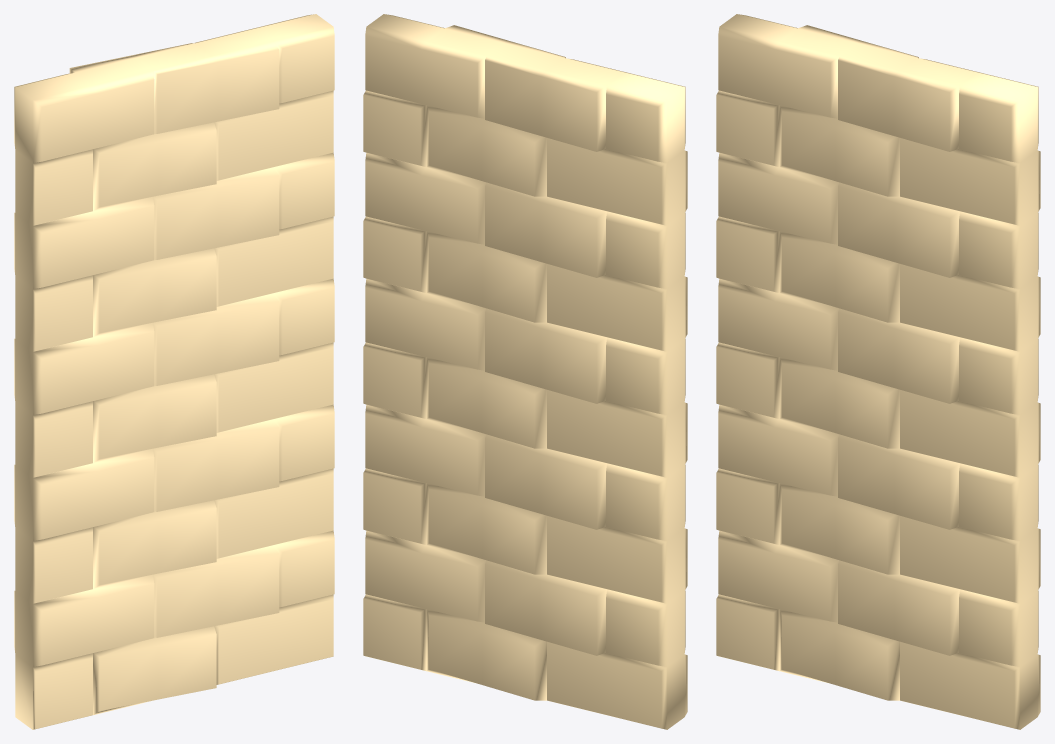
File: 64c1d0f0-ebc6-4271-981a-cc89f8eaca46.glb
3 views of the same model, side by side, from view 1: azimuth 30°, elevation 25°; view 2: azimuth 150°, elevation 25°; view 3: azimuth 330°, elevation 25° (orthographic).
Visible parts, largest first — view 1: BrickWall.007; view 2: BrickWall.007; view 3: BrickWall.007.
Part boxes in pixels (x1,y1,x2,y2): BrickWall.007: (14,14,334,729); BrickWall.007: (363,14,687,729); BrickWall.007: (716,14,1040,729).
Size of what is drawn, in the model's own units: 1.99 by 3.98 by 0.3841.
Materials: 1 (1 with a texture image).
